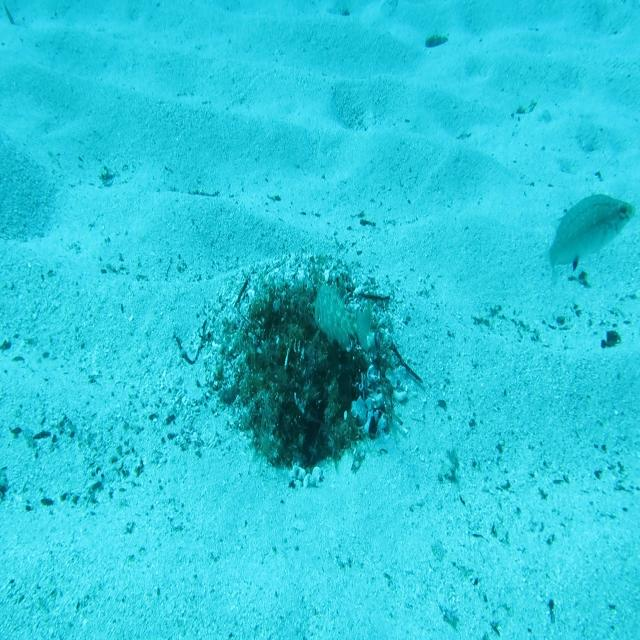NIP_CORE: (310, 276, 374, 360)
core_nest: (275, 299, 334, 349)
female: (541, 191, 636, 289)
nest: (198, 239, 418, 497)
vegetation: (599, 324, 622, 357)
